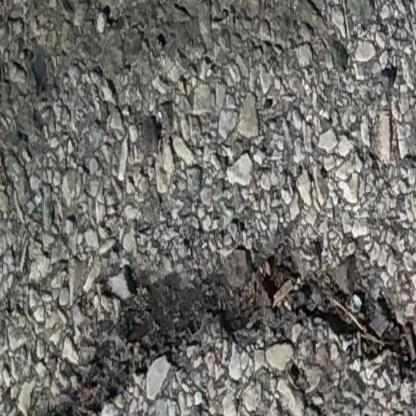Cracks: (4, 243, 416, 416)
